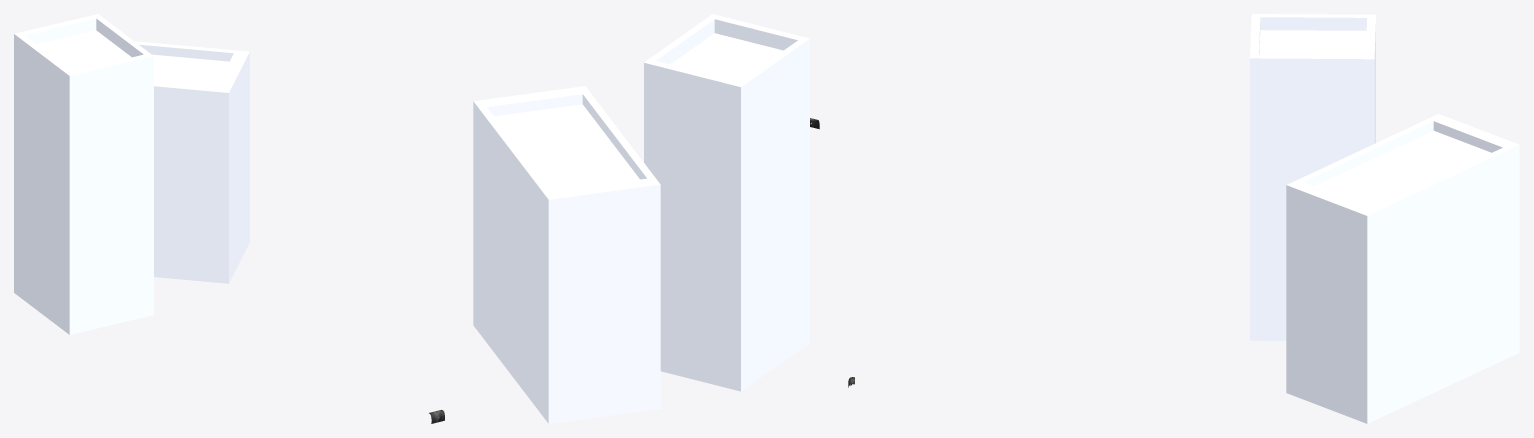
The model's file is BATTLE.fbx.
3 views of the same model, side by side, from view 1: azimuth 30°, elevation 25°; view 2: azimuth 150°, elevation 25°; view 3: azimuth 270°, elevation 25° (orthographic). The views are drawn at different scales.
Parts seen in each view (by area): view 1: Shadow (5), Shadow (3); view 2: Shadow (3), Shadow (5); view 3: Shadow (3), Shadow (5).
Boxes of the visible parts, x1,y1,x2,y2 form: Shadow (5): (14, 14, 153, 334); Shadow (3): (135, 41, 249, 283); Shadow (3): (473, 86, 660, 423); Shadow (5): (644, 14, 809, 391); Shadow (3): (1286, 114, 1519, 423); Shadow (5): (1250, 14, 1375, 340).
Size of the model in its own units: 9.75 by 10.47 by 22.28.
